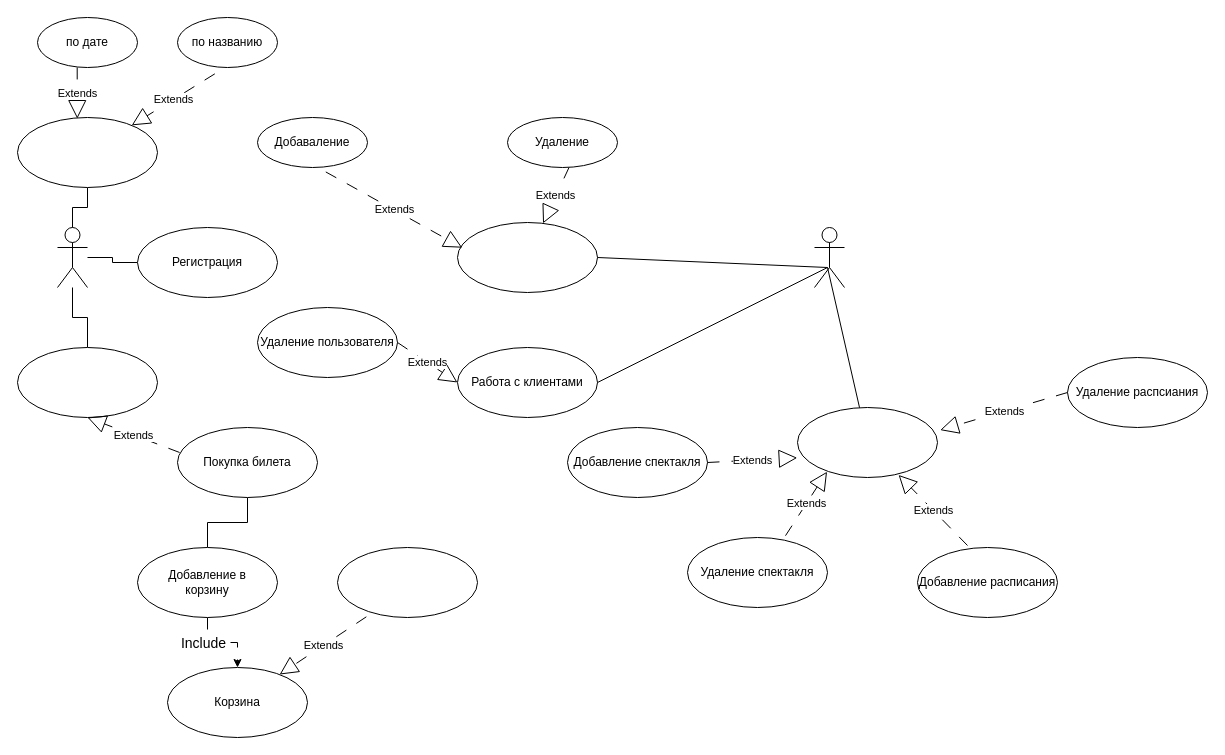
The diagram is 1225 pixels wide and 755 high, and some of its shapes have lost their labels. The box of each missing label's shape, as (x1, y1, x2, y2) in pixels:
Админимтратор: (814, 226, 844, 288)
Поиск: (16, 116, 158, 188)
Пользователь: (56, 226, 88, 288)
Просмотр афиши: (16, 346, 158, 418)
Работа с даннами: (796, 406, 938, 478)
Работа с сотрудниками: (456, 222, 598, 292)
Удаление из корзины: (336, 546, 478, 618)
